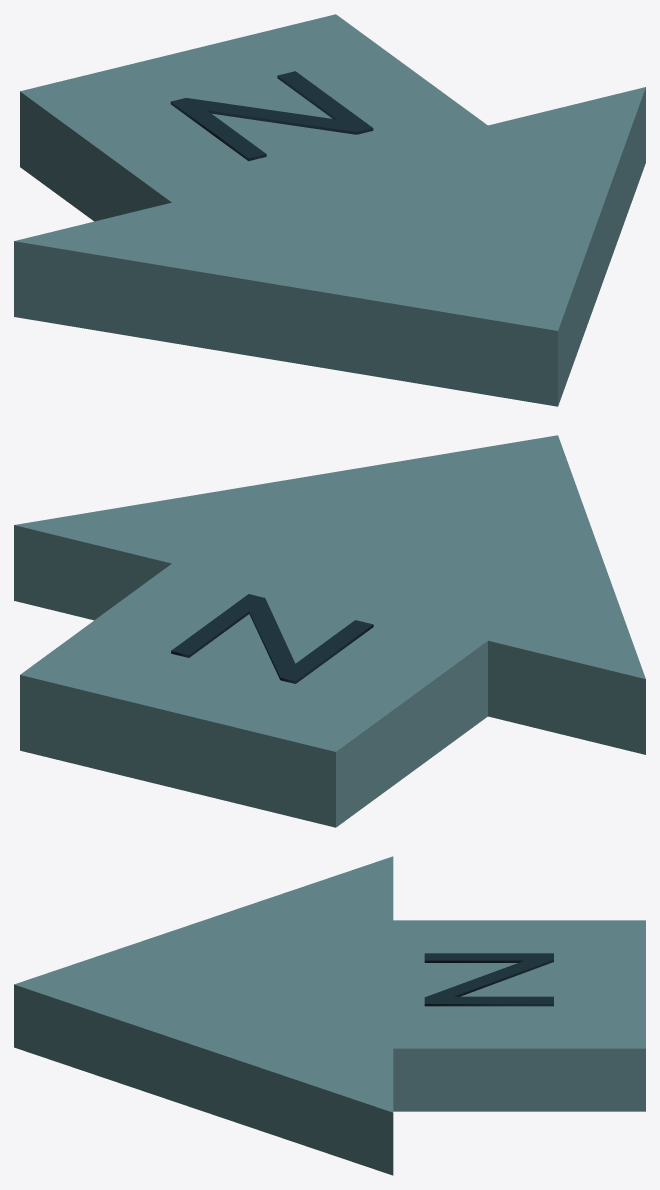
Rendered from marcador_norte.fbx.
The picture shows the model from 3 angles, top to bottom: view 1: azimuth 30°, elevation 25°; view 2: azimuth 150°, elevation 25°; view 3: azimuth 270°, elevation 25°; orthographic projection. The views are drawn at different scales.
Visible parts, largest first — view 1: SM_Cardinal_norte, TXT_Cardinal_norte; view 2: SM_Cardinal_norte, TXT_Cardinal_norte; view 3: SM_Cardinal_norte, TXT_Cardinal_norte.
Part boxes in pixels (left/top/right/bottom): SM_Cardinal_norte: left=14, top=14, right=645, bottom=406; TXT_Cardinal_norte: left=170, top=71, right=373, bottom=161; SM_Cardinal_norte: left=14, top=435, right=645, bottom=827; TXT_Cardinal_norte: left=171, top=594, right=373, bottom=683; SM_Cardinal_norte: left=14, top=856, right=645, bottom=1175; TXT_Cardinal_norte: left=424, top=953, right=553, bottom=1006.
Bounding box in the file's own units: 0.48 × 0.06 × 0.5.
